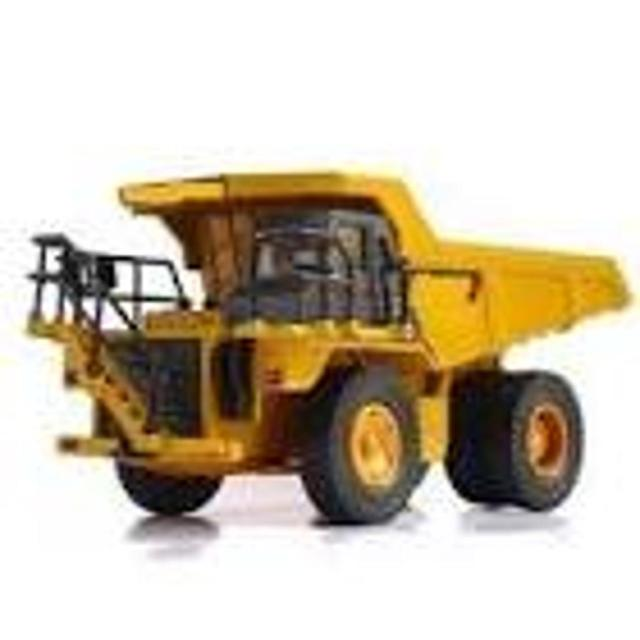dump_truck: (22, 136, 631, 526)
